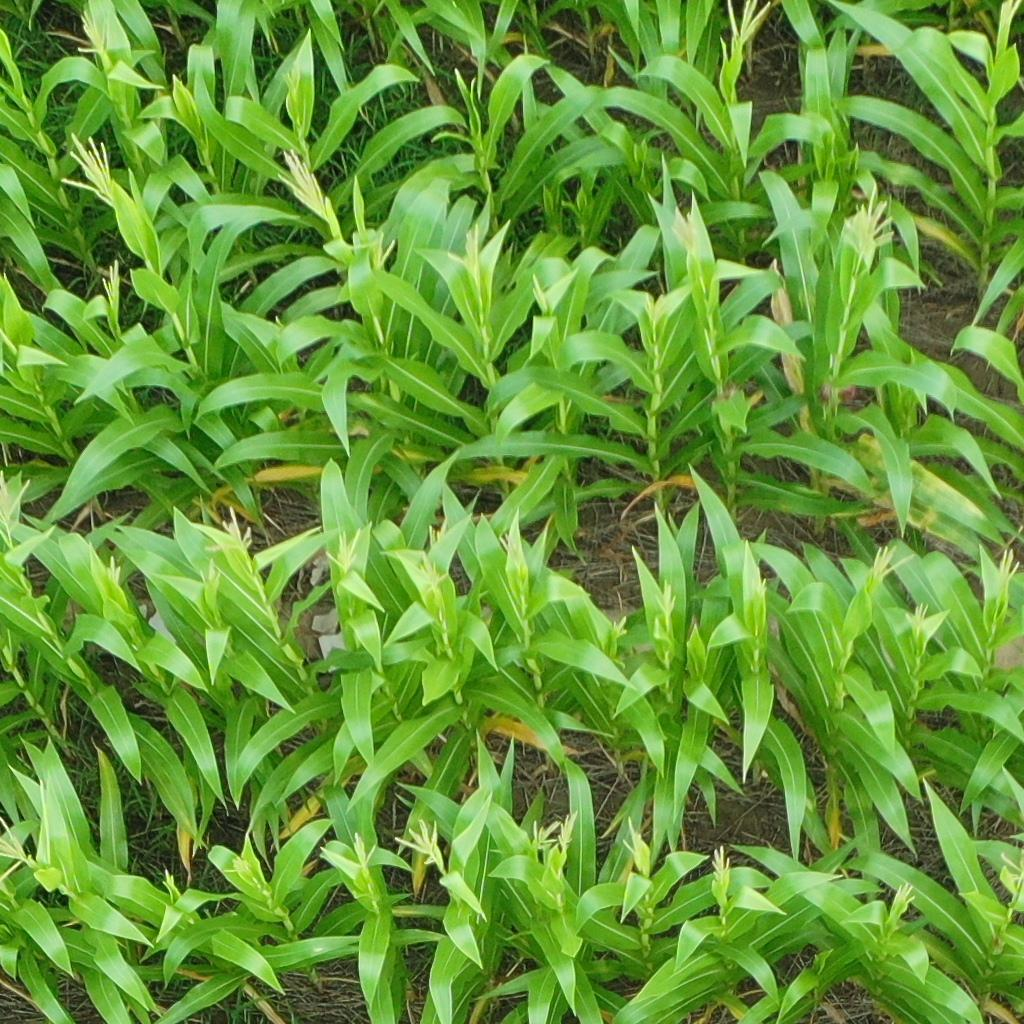Tassel: (55, 130, 119, 207), (839, 183, 895, 266), (277, 147, 334, 219), (862, 542, 919, 591), (1, 815, 40, 882), (1, 474, 34, 550), (396, 816, 446, 864), (442, 224, 487, 274), (203, 505, 253, 550), (720, 1, 771, 42), (665, 206, 707, 253), (323, 528, 366, 572), (73, 8, 113, 53), (359, 227, 399, 272), (408, 553, 452, 592), (900, 603, 935, 646), (993, 547, 1024, 592), (346, 830, 379, 866), (620, 816, 647, 858), (193, 554, 226, 588), (528, 815, 563, 847), (556, 810, 582, 851), (886, 879, 917, 913), (101, 260, 123, 306), (998, 853, 1024, 891), (530, 270, 550, 312), (709, 841, 728, 880), (656, 584, 679, 615), (1000, 1, 1023, 32), (748, 567, 770, 598), (224, 853, 251, 877), (502, 530, 523, 559), (428, 520, 450, 547), (105, 556, 122, 587), (611, 616, 631, 639), (162, 866, 178, 889)
